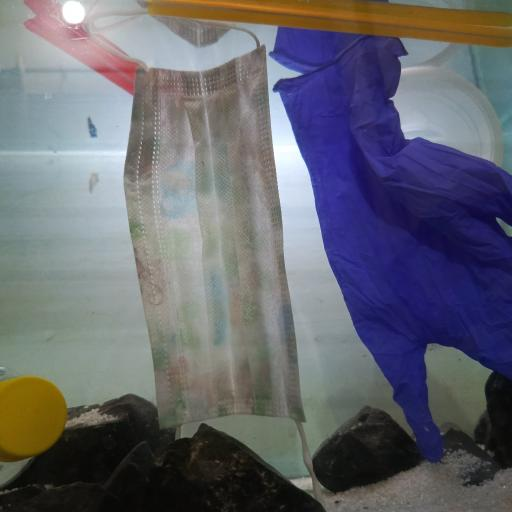bottle_cap: (0, 376, 68, 454)
glove: (274, 36, 512, 463)
mask: (124, 26, 308, 440)
plastic_cup: (386, 64, 506, 177)
plastic_straw: (146, 0, 512, 48), (26, 10, 140, 92)
